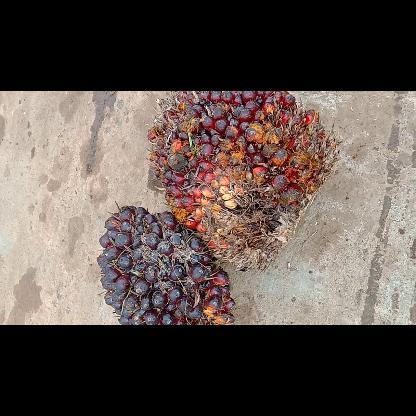TBS masak: (148, 90, 335, 270)
TBS mentah: (97, 200, 235, 324)
